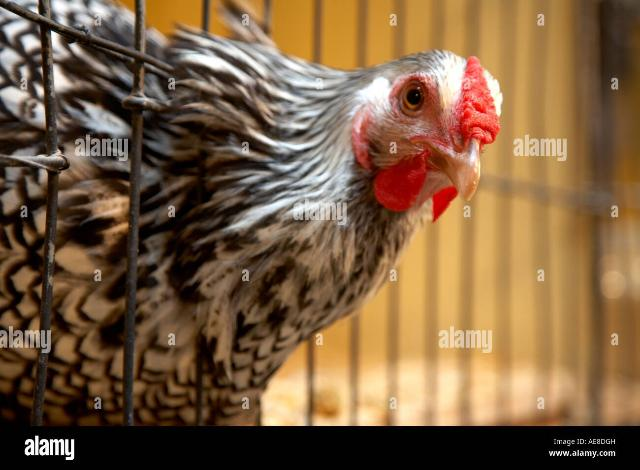Chicken: (0, 0, 504, 427)
